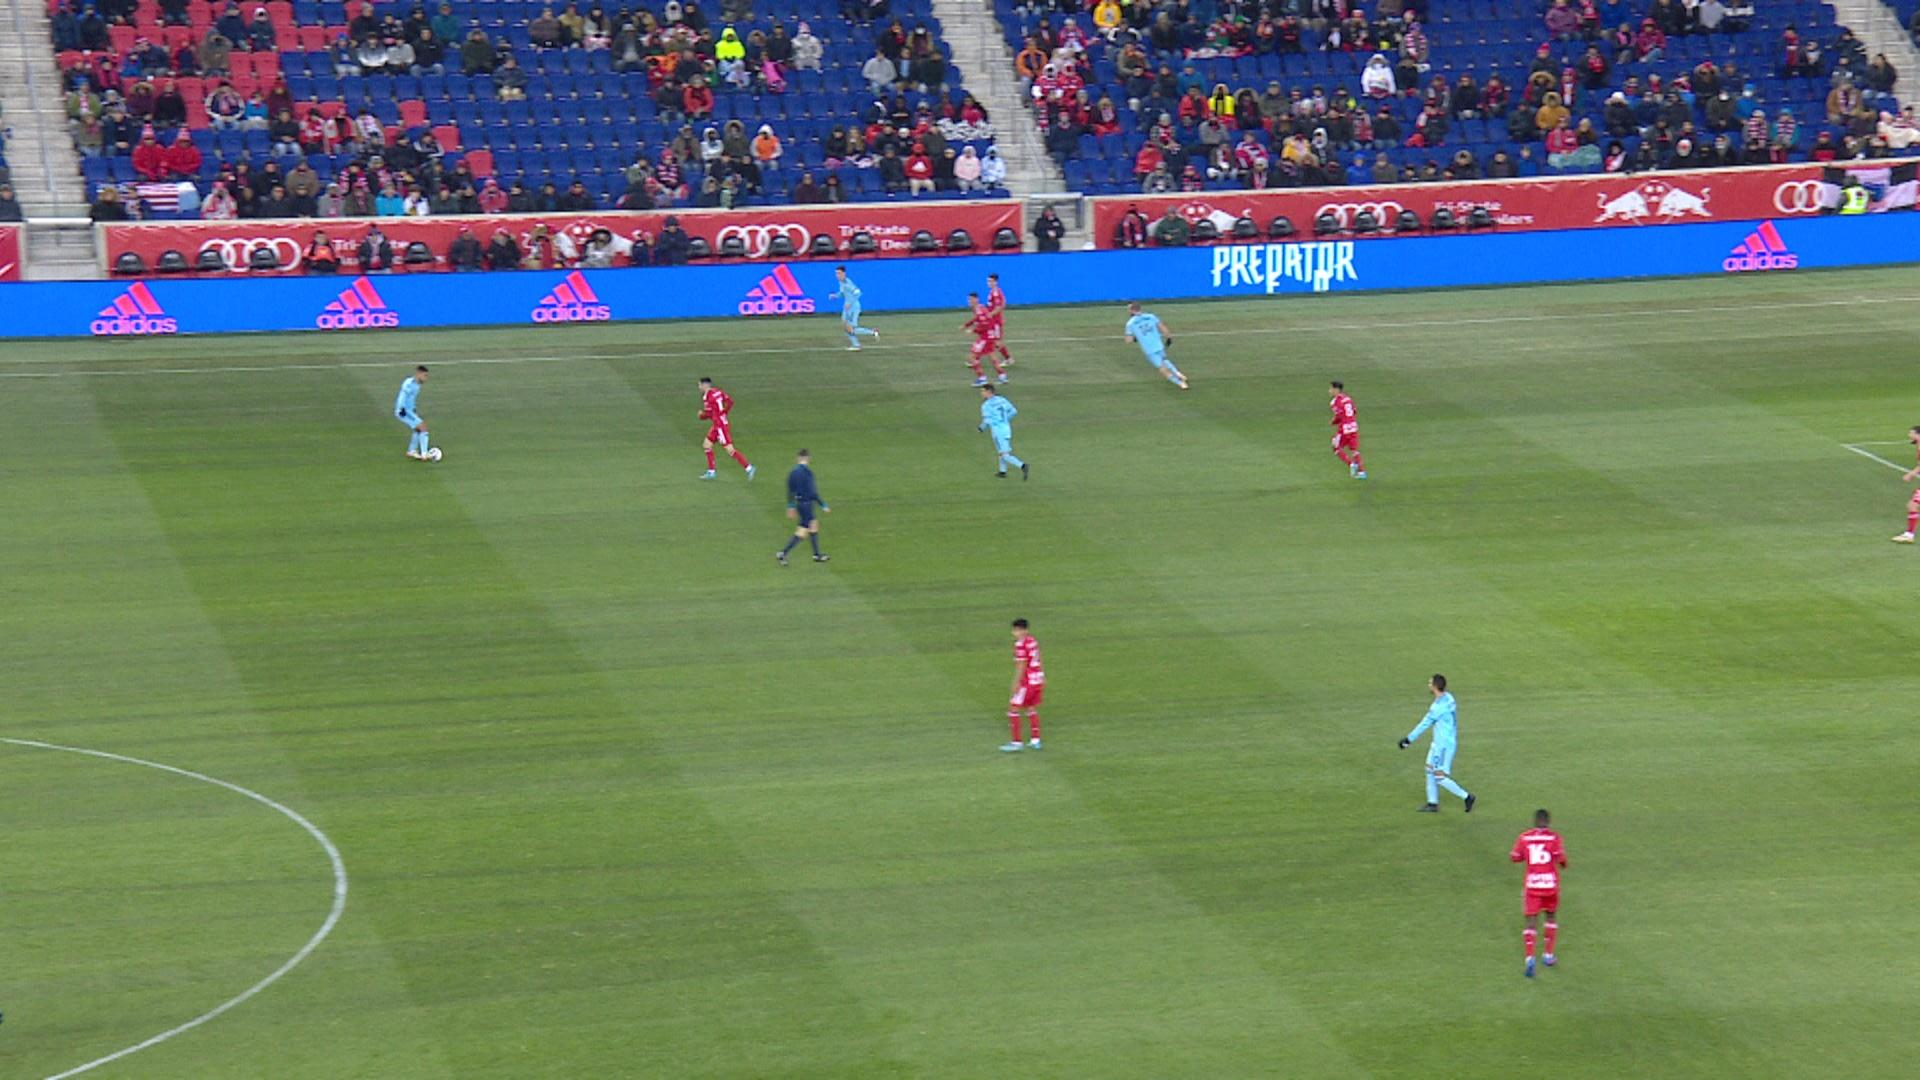football: (429, 444, 443, 462)
